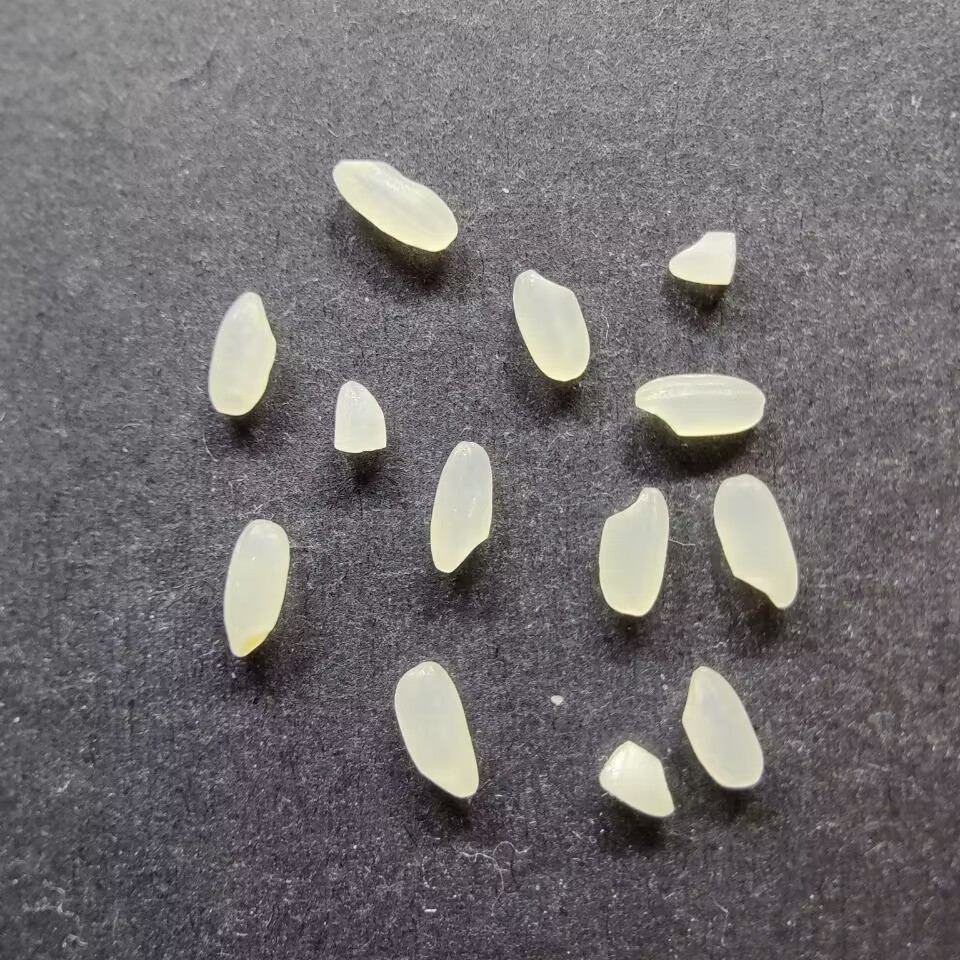broken: (598, 738, 677, 819), (668, 228, 740, 290), (332, 380, 388, 454)
rice: (711, 472, 801, 611), (391, 660, 480, 799), (331, 159, 458, 253), (678, 664, 766, 790), (596, 485, 671, 618), (221, 517, 291, 658), (511, 268, 592, 383), (206, 289, 278, 416), (428, 441, 495, 574), (633, 372, 768, 437)
